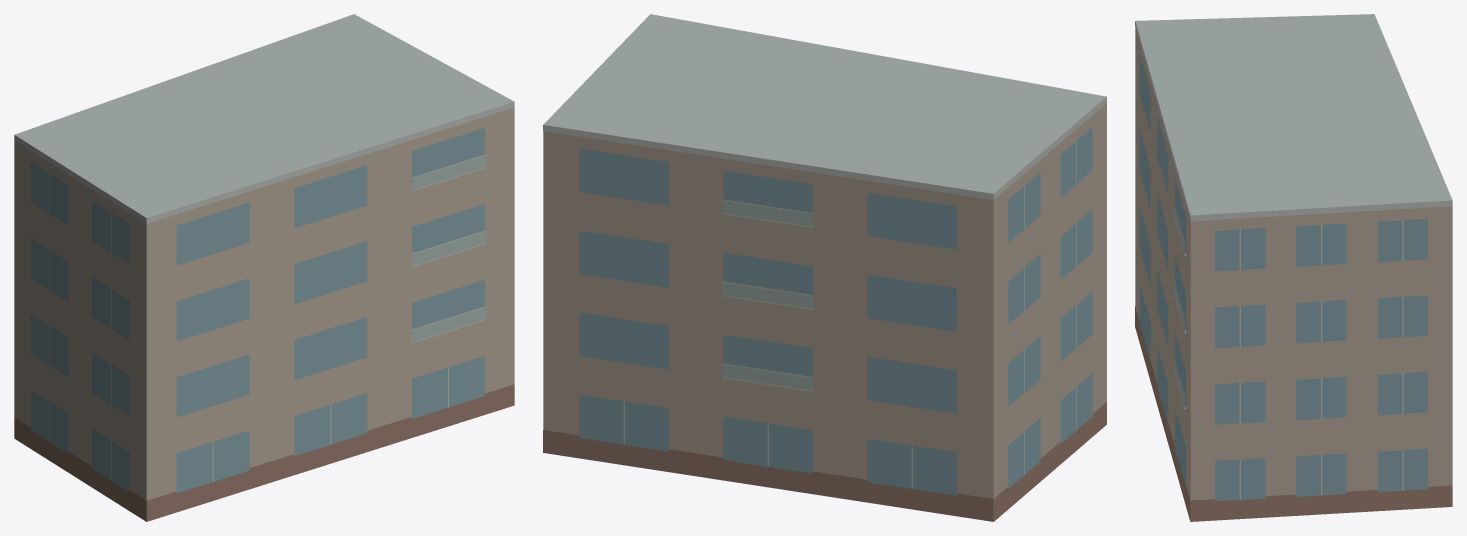
The model's file is survey-upis-33039149.glb.
3 views of the same model, side by side, from view 1: azimuth 30°, elevation 25°; view 2: azimuth 150°, elevation 25°; view 3: azimuth 270°, elevation 25° (orthographic). The views are drawn at different scales.
Parts seen in each view (by area): view 1: survey-upis-33039149.tmp; view 2: survey-upis-33039149.tmp; view 3: survey-upis-33039149.tmp.
Boxes of the visible parts, x1,y1,x2,y2 form: survey-upis-33039149.tmp: (14, 14, 514, 521); survey-upis-33039149.tmp: (543, 14, 1106, 521); survey-upis-33039149.tmp: (1135, 14, 1452, 521).
Bounding box in the file's own units: 18.05 × 12.8 × 12.03.
